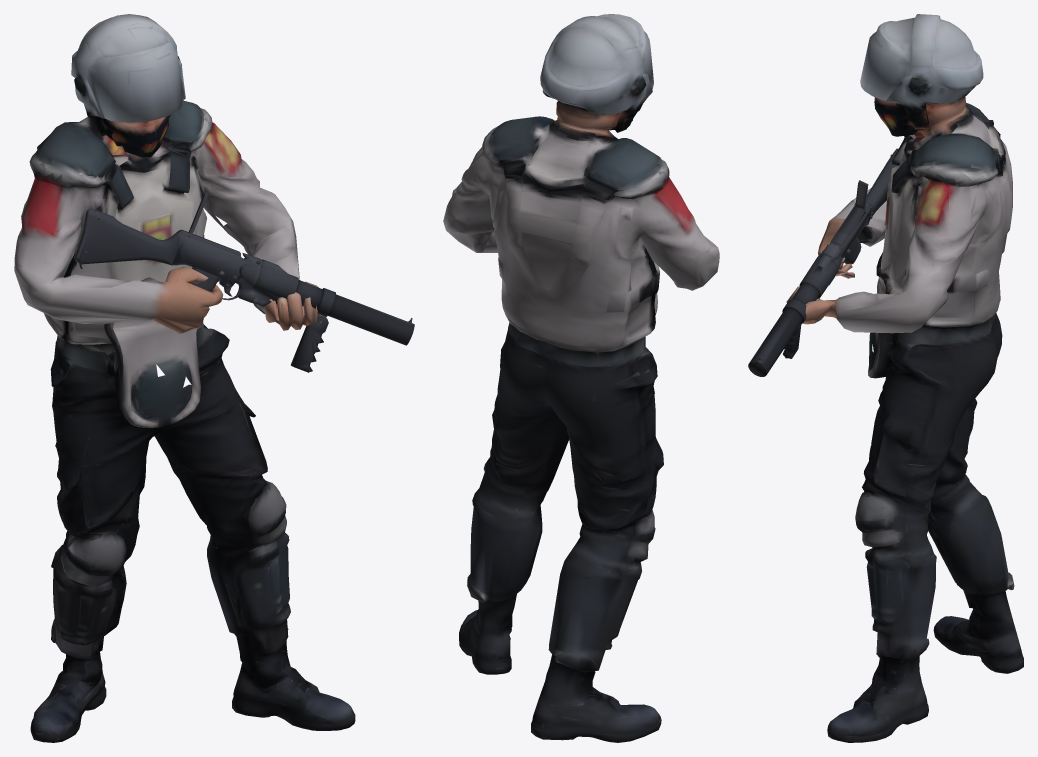
Rendered from samapta_gas_mata_idle.glb.
The picture shows the model from 3 angles, left to right: view 1: azimuth 30°, elevation 25°; view 2: azimuth 150°, elevation 25°; view 3: azimuth 270°, elevation 25°; orthographic projection. The views are drawn at different scales.
Visible parts, largest first — view 1: body; view 2: body; view 3: body.
Part boxes in pixels (x1,y1,x2,y2): body: [14, 14, 414, 742]; body: [443, 14, 719, 742]; body: [748, 14, 1023, 742].
Bounding box in the file's own units: 44.83 × 98.76 × 38.05.
Materials: 2 (2 with a texture image).
